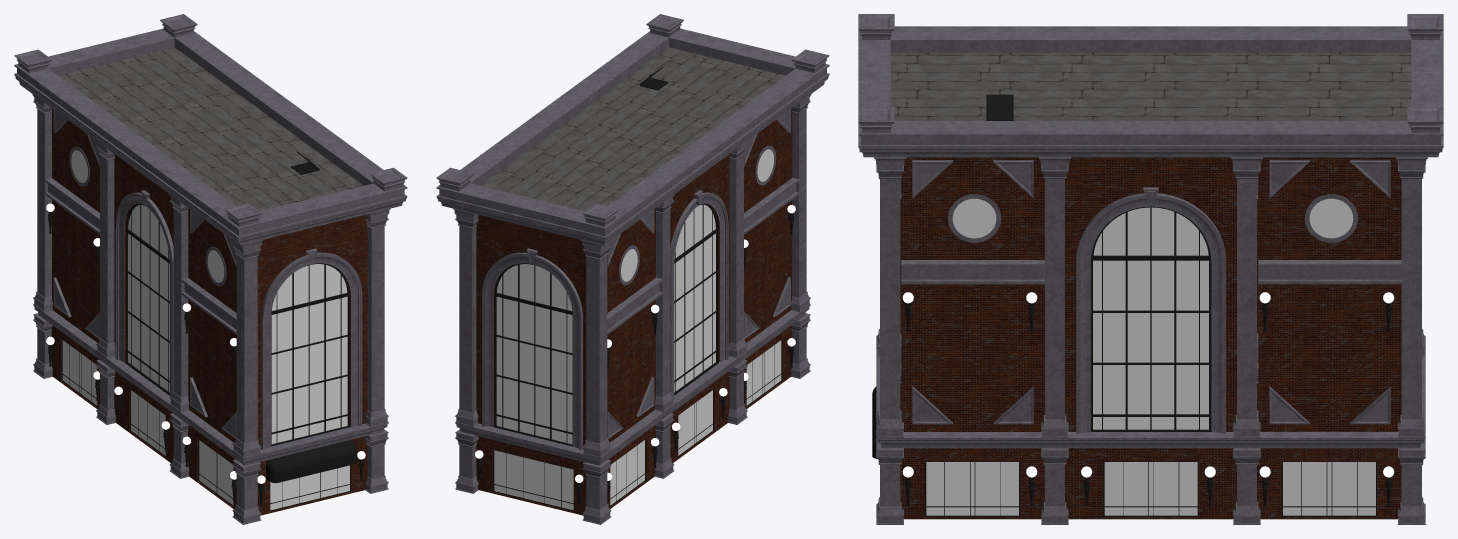
File: Building_17.fbx
The picture shows the model from 3 angles, left to right: view 1: azimuth 30°, elevation 25°; view 2: azimuth 150°, elevation 25°; view 3: azimuth 270°, elevation 25°; orthographic projection. The views are drawn at different scales.
Parts seen in each view (by area): view 1: Building_17_LOD0; view 2: Building_17_LOD0; view 3: Building_17_LOD0.
Boxes of the visible parts, box(x1,y1,x2,y2) form: Building_17_LOD0: box(14, 14, 407, 524); Building_17_LOD0: box(436, 14, 829, 524); Building_17_LOD0: box(858, 14, 1443, 524).
Size of what is drawn, in the model's own units: 1136 by 2012 by 2599.
